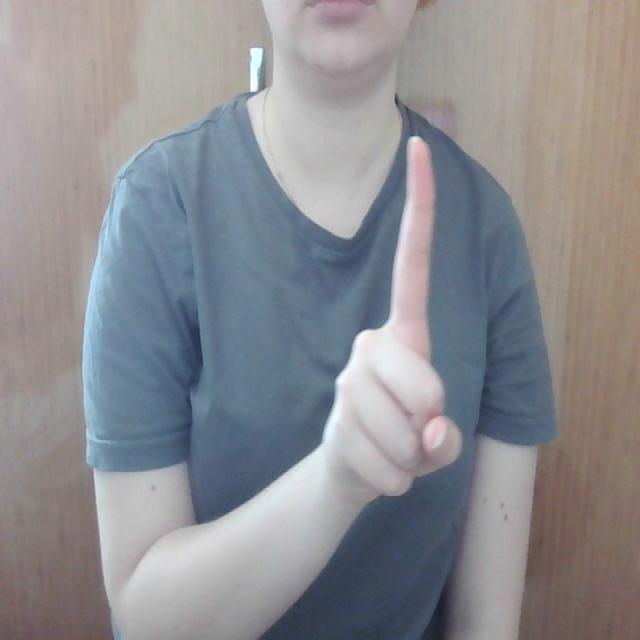Hayir: (312, 119, 468, 522)
